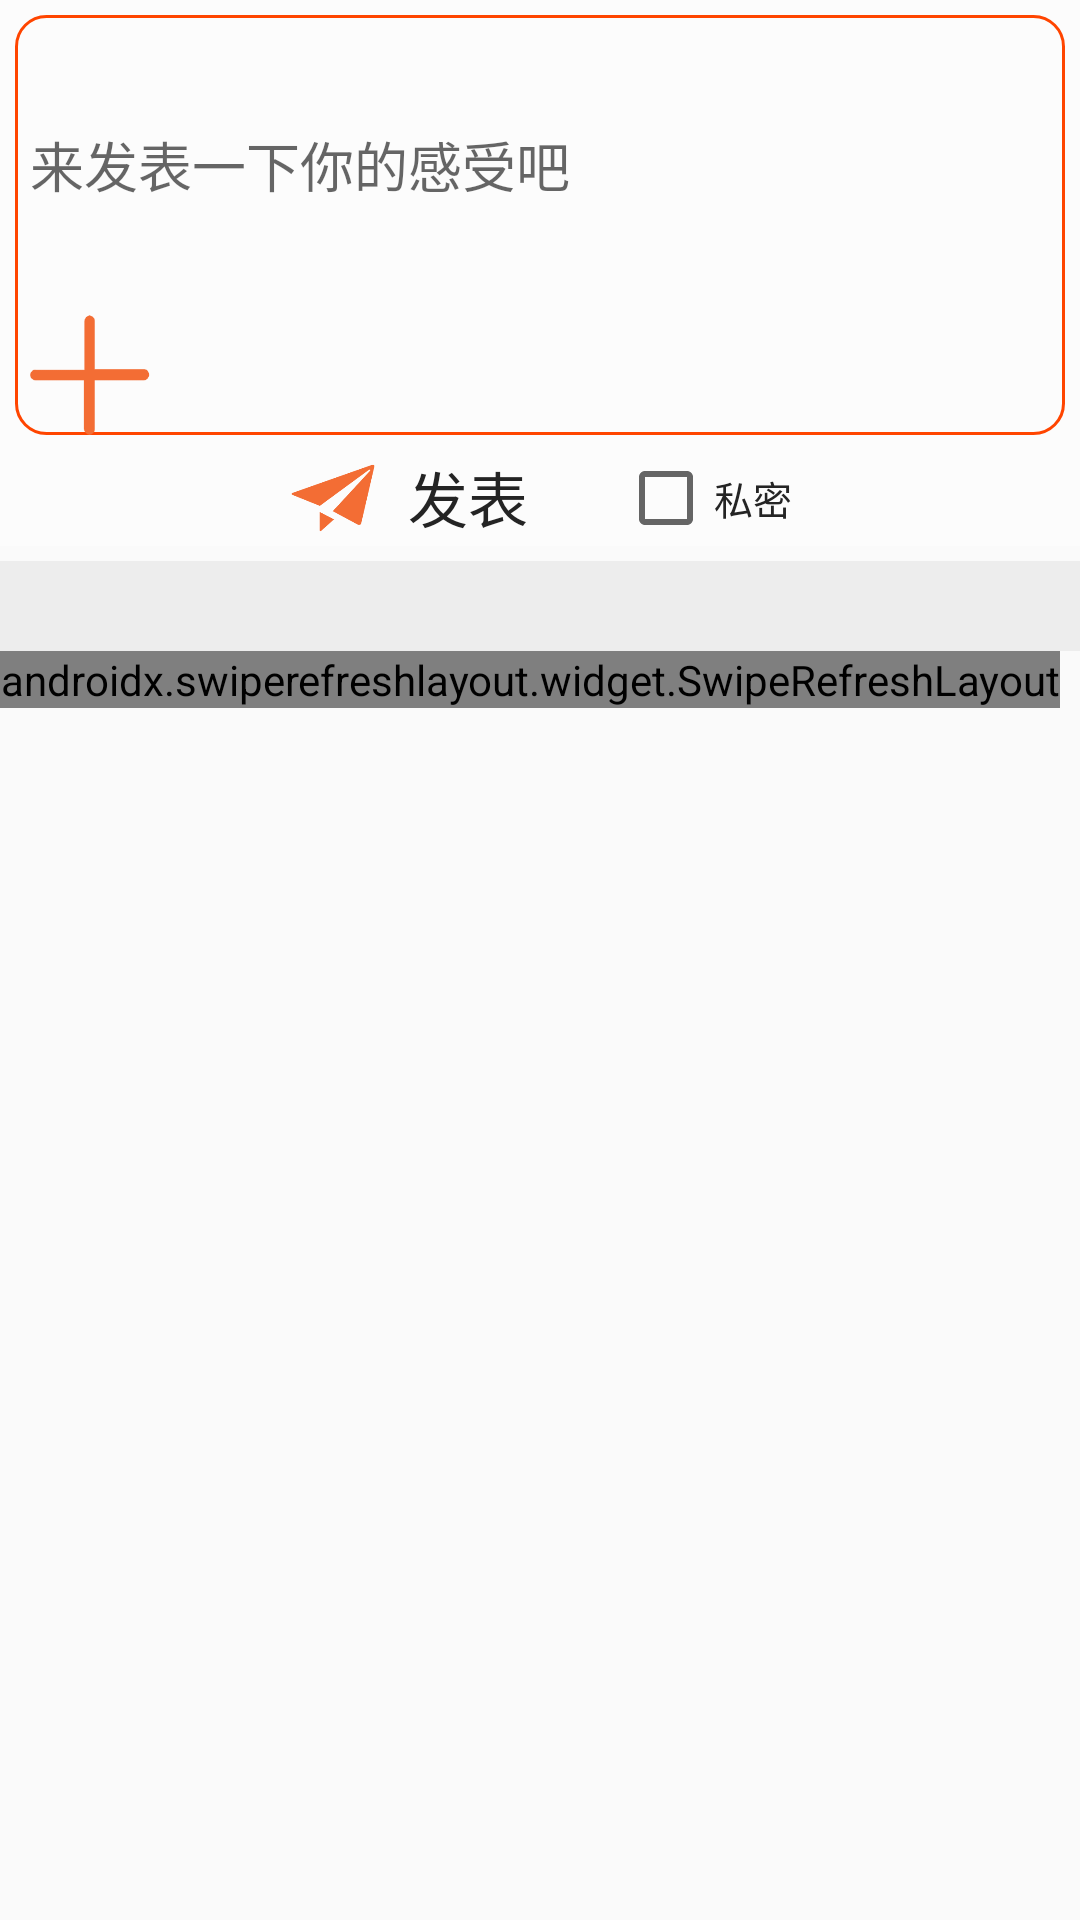

Icon bounding boxes for this 1080x1920 phone screenshot, format (x1, y1, x2, y2):
add: (30, 315, 150, 435)
